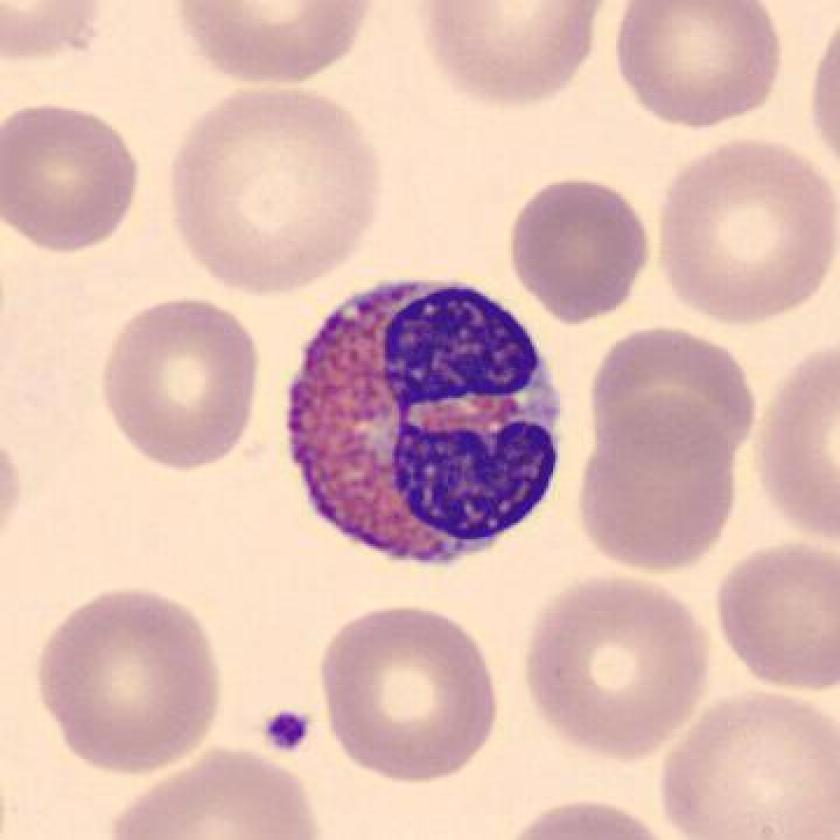eosinophil: (276, 262, 580, 575)
